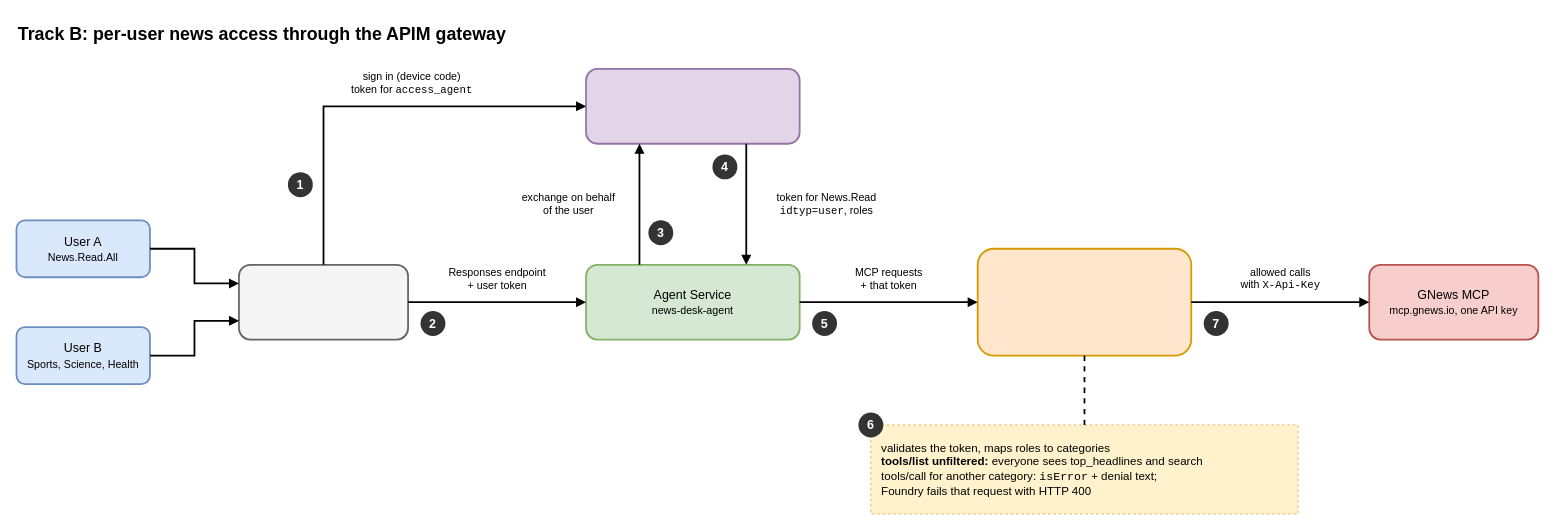
The diagram is 1554 pixels wide and 530 high, and some of its shapes have lost their labels. Each missing label, with the box of its shape:
Client app news-desk-client-{suffix}: (238, 263, 409, 340)
Enforcement point APIM news-mcp API + inbound policy: (976, 247, 1192, 356)
Entra ID app roles on news-mcp-{suffix}: (585, 68, 800, 144)
